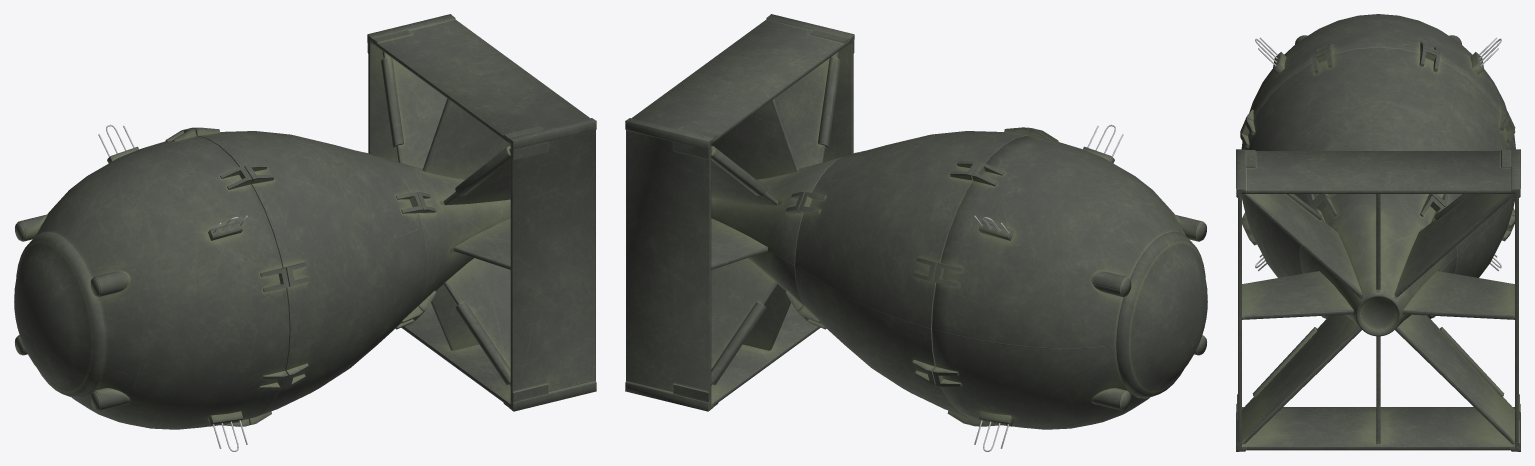
The model's file is Fat_Man.glb.
3 views of the same model, side by side, from view 1: azimuth 30°, elevation 25°; view 2: azimuth 150°, elevation 25°; view 3: azimuth 270°, elevation 25° (orthographic). The views are drawn at different scales.
Parts seen in each view (by area): view 1: Fat_Man; view 2: Fat_Man; view 3: Fat_Man.
Boxes of the visible parts, bbox=[...] form: Fat_Man: bbox=[14, 14, 596, 451]; Fat_Man: bbox=[625, 14, 1207, 451]; Fat_Man: bbox=[1236, 14, 1520, 451].
Bounding box in the file's own units: 0.0911 × 0.0478 × 0.0469.
Materials: 1 (1 with a texture image).
